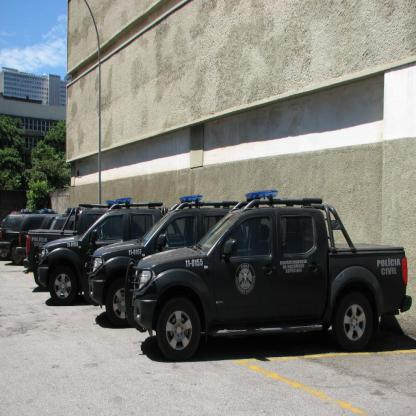Truck: (0, 190, 412, 361)
